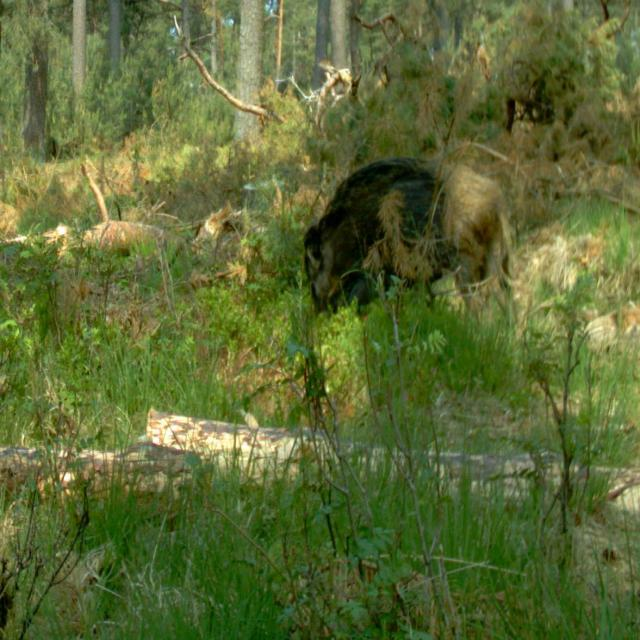pig: (282, 116, 549, 345)
